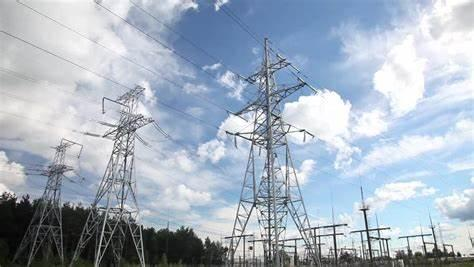power_tower: (217, 32, 321, 267), (73, 80, 162, 267), (13, 125, 76, 266)
